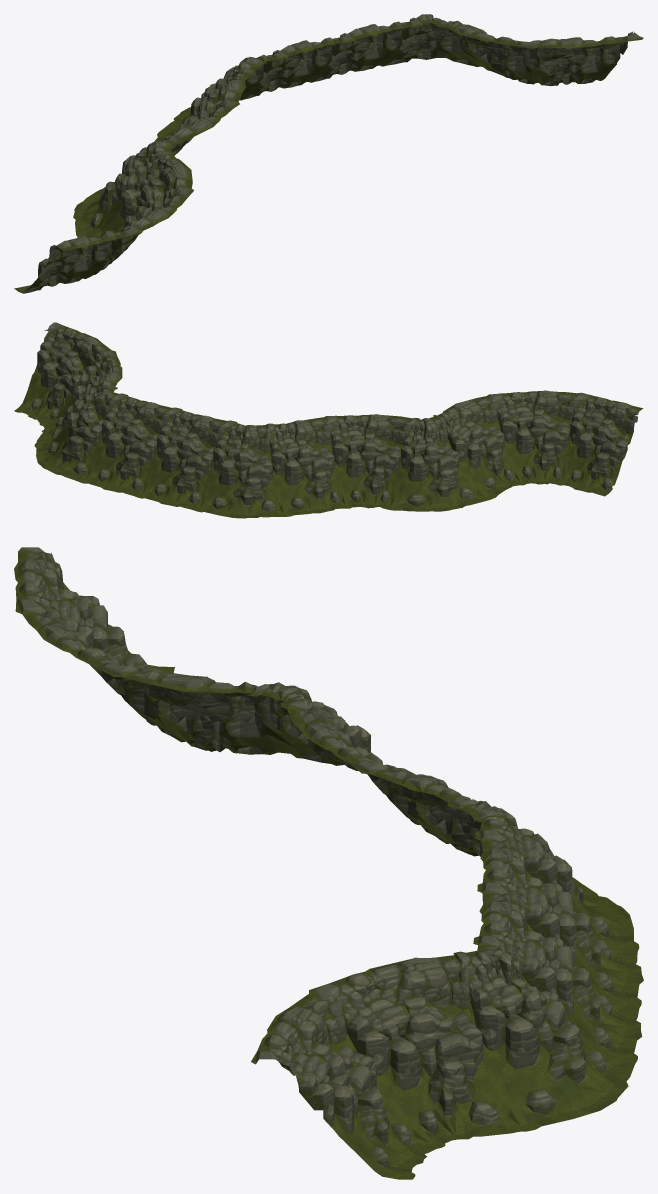
The model's file is Stonewall04.FBX.
3 views of the same model, one above another, from view 1: azimuth 30°, elevation 25°; view 2: azimuth 150°, elevation 25°; view 3: azimuth 270°, elevation 25° (orthographic). The views are drawn at different scales.
Parts seen in each view (by area): view 1: Stonewall04; view 2: Stonewall04; view 3: Stonewall04.
Part boxes in pixels (bbox=[...]): Stonewall04: bbox=[14, 14, 643, 293]; Stonewall04: bbox=[14, 322, 643, 518]; Stonewall04: bbox=[14, 547, 643, 1179].
Bounding box in the file's own units: 7593 × 837 × 3918.
